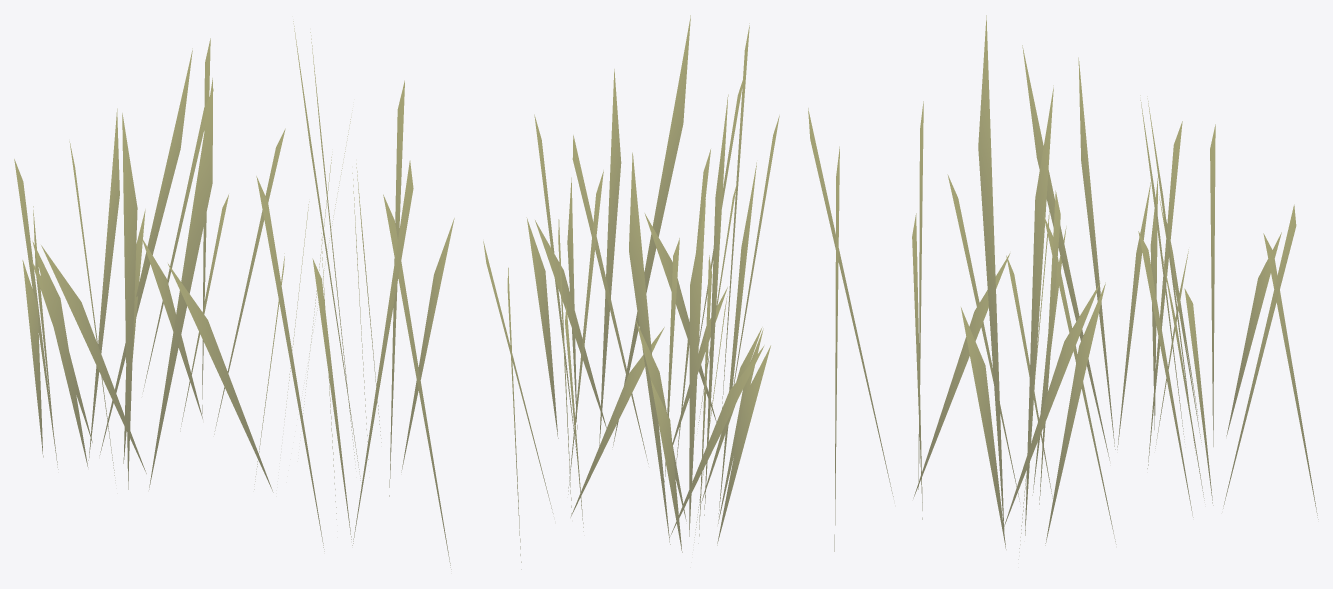
Rendered from SM_detail_grassM_D_LOD1.FBX.
3 renders of one model, left to right at view 1: azimuth 30°, elevation 25°; view 2: azimuth 150°, elevation 25°; view 3: azimuth 270°, elevation 25°, orthographic. The views are drawn at different scales.
Parts seen in each view (by area): view 1: SM_detail_grassM_D_LOD1; view 2: SM_detail_grassM_D_LOD1; view 3: SM_detail_grassM_D_LOD1.
Part boxes in pixels (left/top/right/bottom): SM_detail_grassM_D_LOD1: left=14, top=21, right=454, bottom=569; SM_detail_grassM_D_LOD1: left=483, top=15, right=779, bottom=569; SM_detail_grassM_D_LOD1: left=808, top=15, right=1318, bottom=559.
Size of the model in its own units: 131 by 199 by 181.
Materials: 1 (1 with a texture image).
